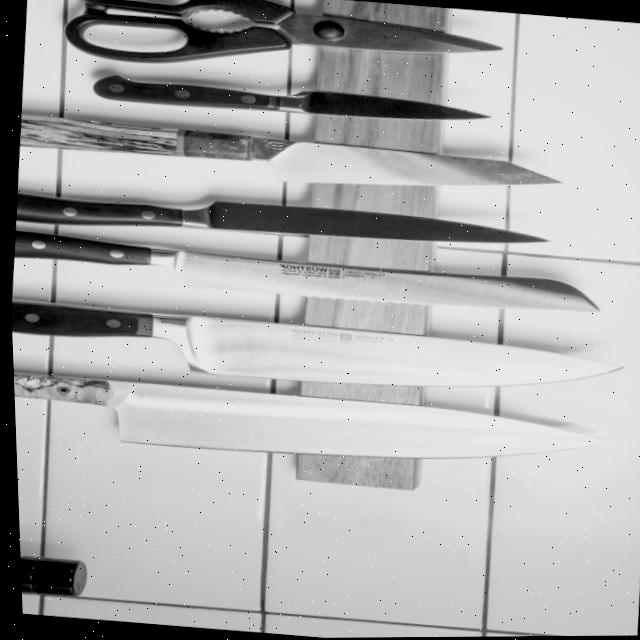knife: (8, 286, 630, 414), (11, 358, 627, 486), (9, 224, 615, 328), (16, 103, 567, 209), (13, 170, 555, 267), (82, 66, 490, 132)
